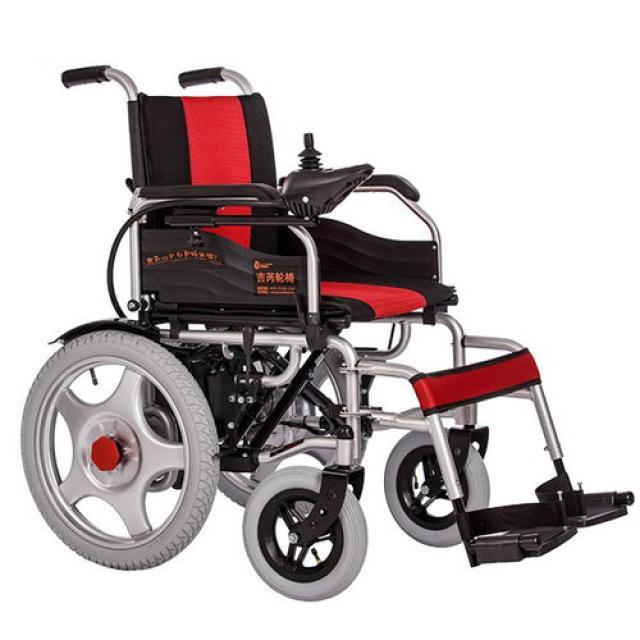wheelchair: (15, 57, 639, 600)
